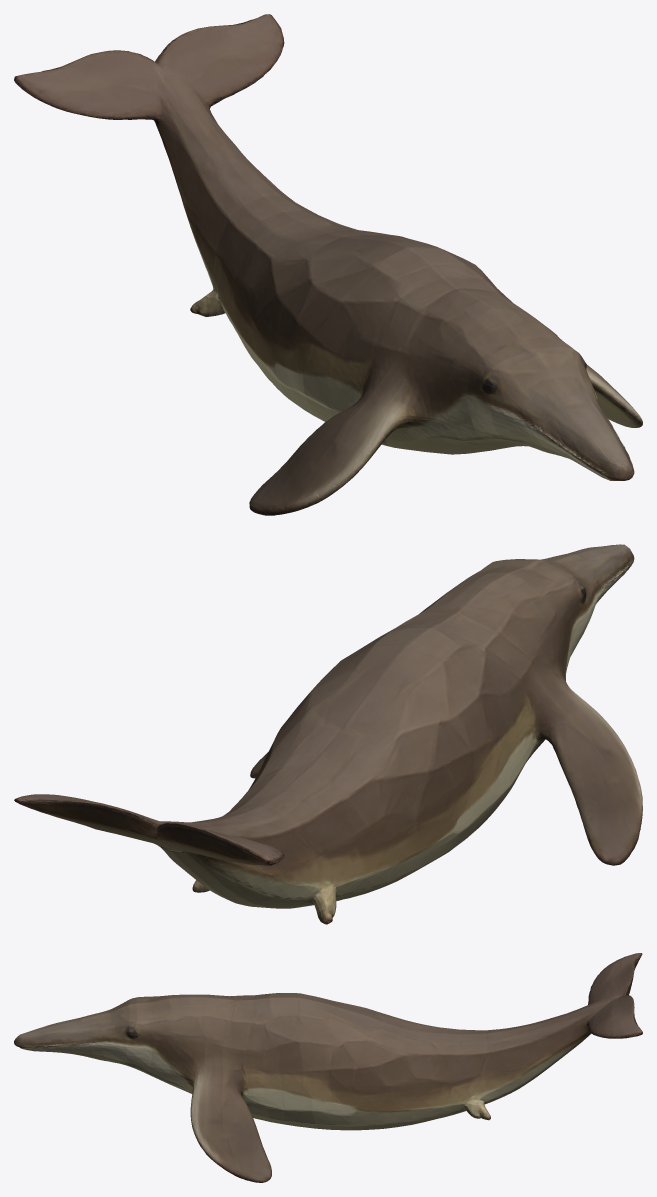
The picture shows the model from 3 angles, top to bottom: view 1: azimuth 30°, elevation 25°; view 2: azimuth 150°, elevation 25°; view 3: azimuth 270°, elevation 25°; orthographic projection. The views are drawn at different scales.
Visible parts, largest first — view 1: world; view 2: world; view 3: world.
Part boxes in pixels (left/top/right/bottom): world: left=14, top=14, right=642, bottom=515; world: left=14, top=544, right=642, bottom=924; world: left=14, top=953, right=642, bottom=1182.
Size of the model in its own units: 2.21 by 1.21 by 5.
1 material, 1 textured.
